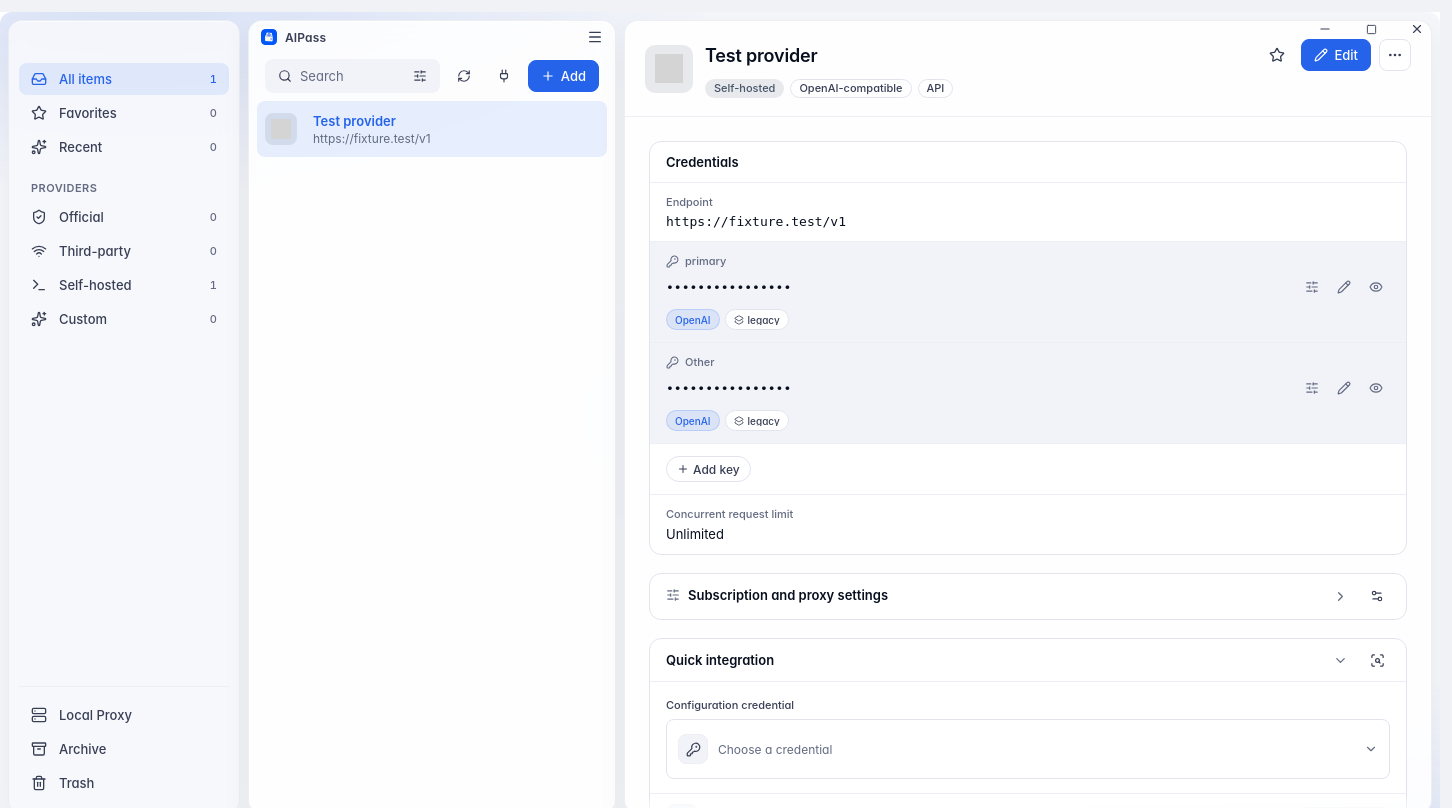
it: deleting the first and final keys then saving provider metadata never resurrects a key
Step 1. Click the button "Edit" → click(1336, 55), box left=1301, top=39, right=1371, bottom=71
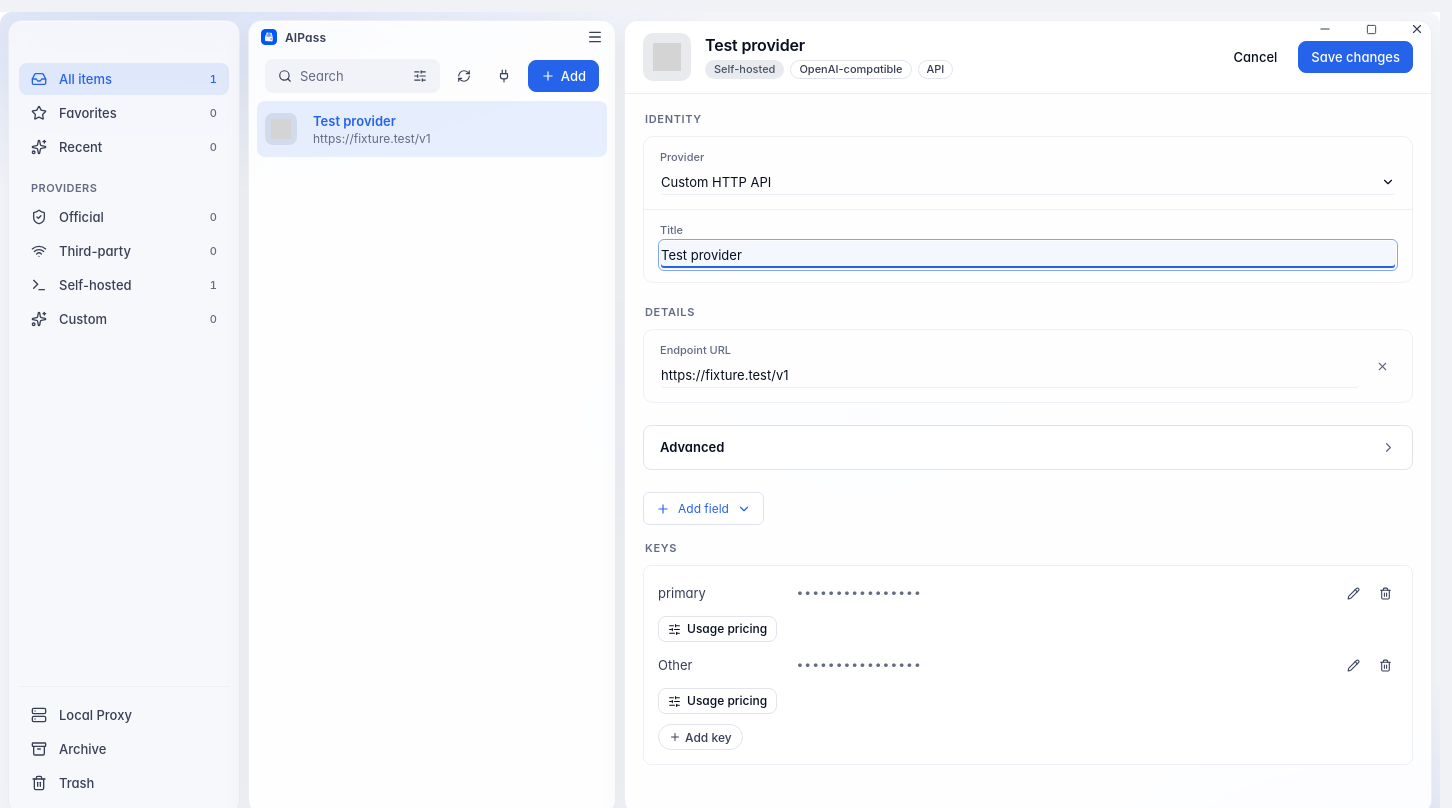
Now the number of elements with class "key-row" is 2, box left=658, top=580, right=1398, bottom=606; left=658, top=652, right=1398, bottom=678
Step 2. Click the button named "Remove key" in the row of "primary" → click(1385, 593), box left=1372, top=580, right=1398, bottom=606
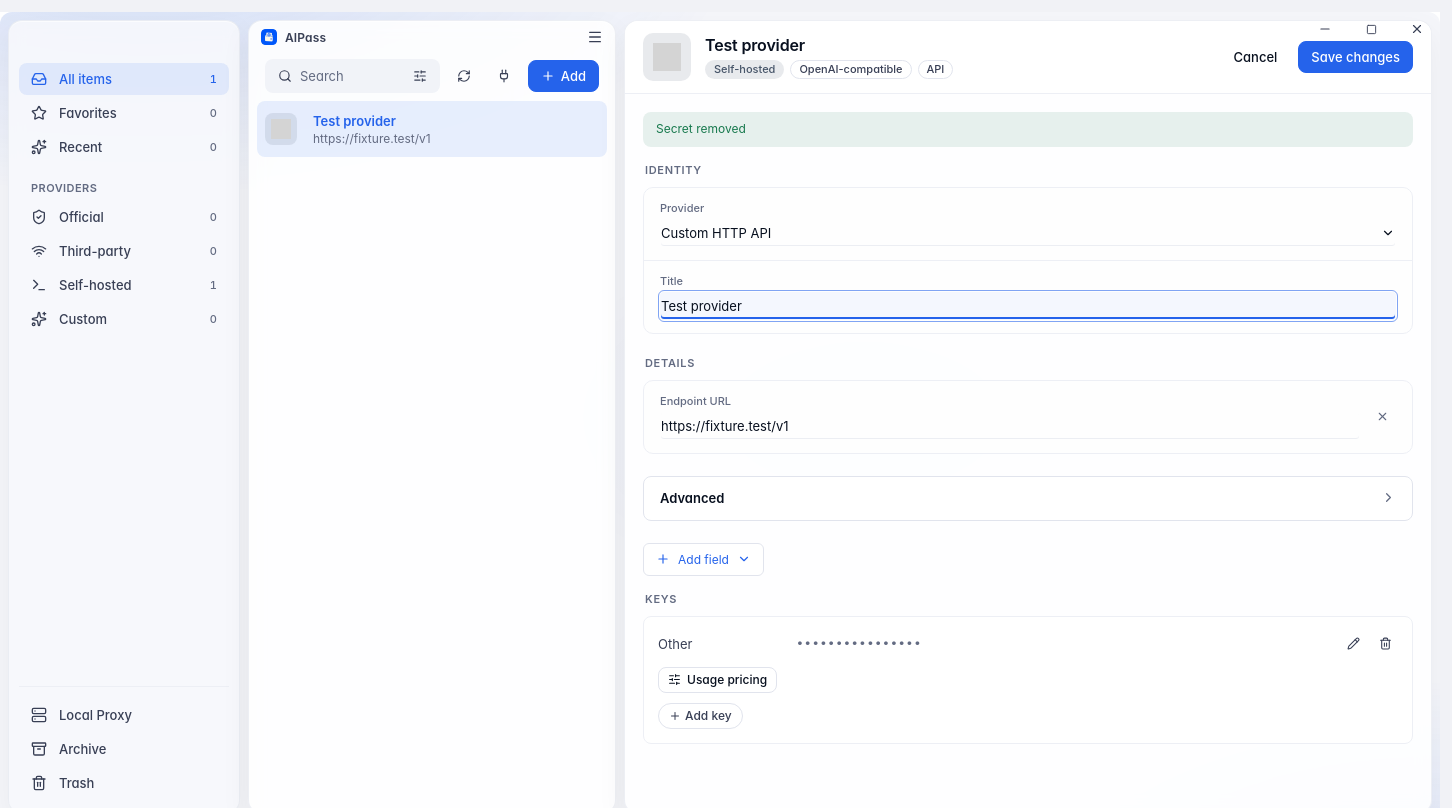
Expected: the text with class "key-row-label" reads "Other", left=658, top=636, right=692, bottom=652
Now the number of elements with class "key-row" is 1, box left=658, top=631, right=1398, bottom=657
Step 3. Click the button named "Remove key" → click(1385, 644), box left=1372, top=631, right=1398, bottom=657
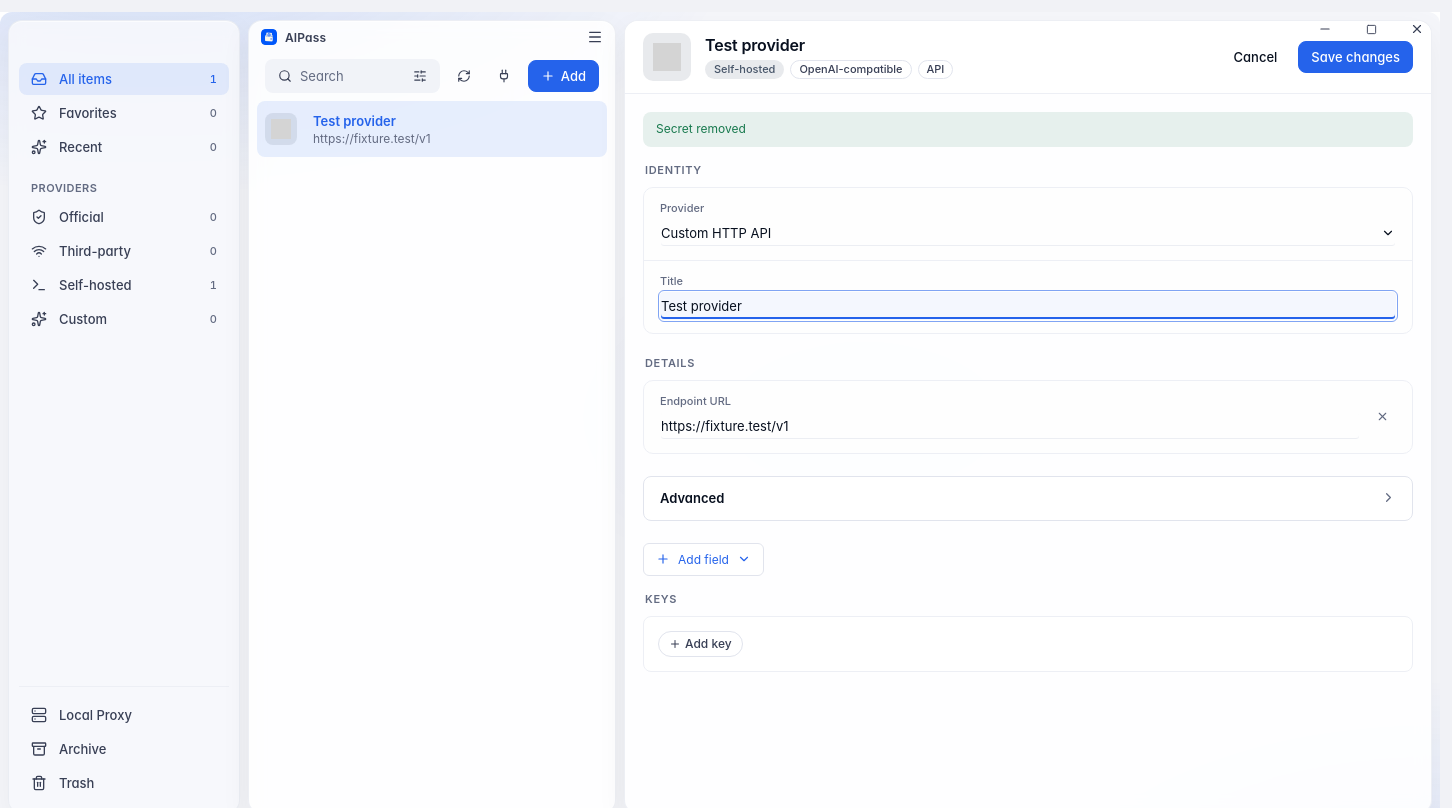
Now no elements with class "key-row" are shown
Step 4. Click the button "Save changes" → click(1356, 57), box left=1298, top=41, right=1413, bottom=73
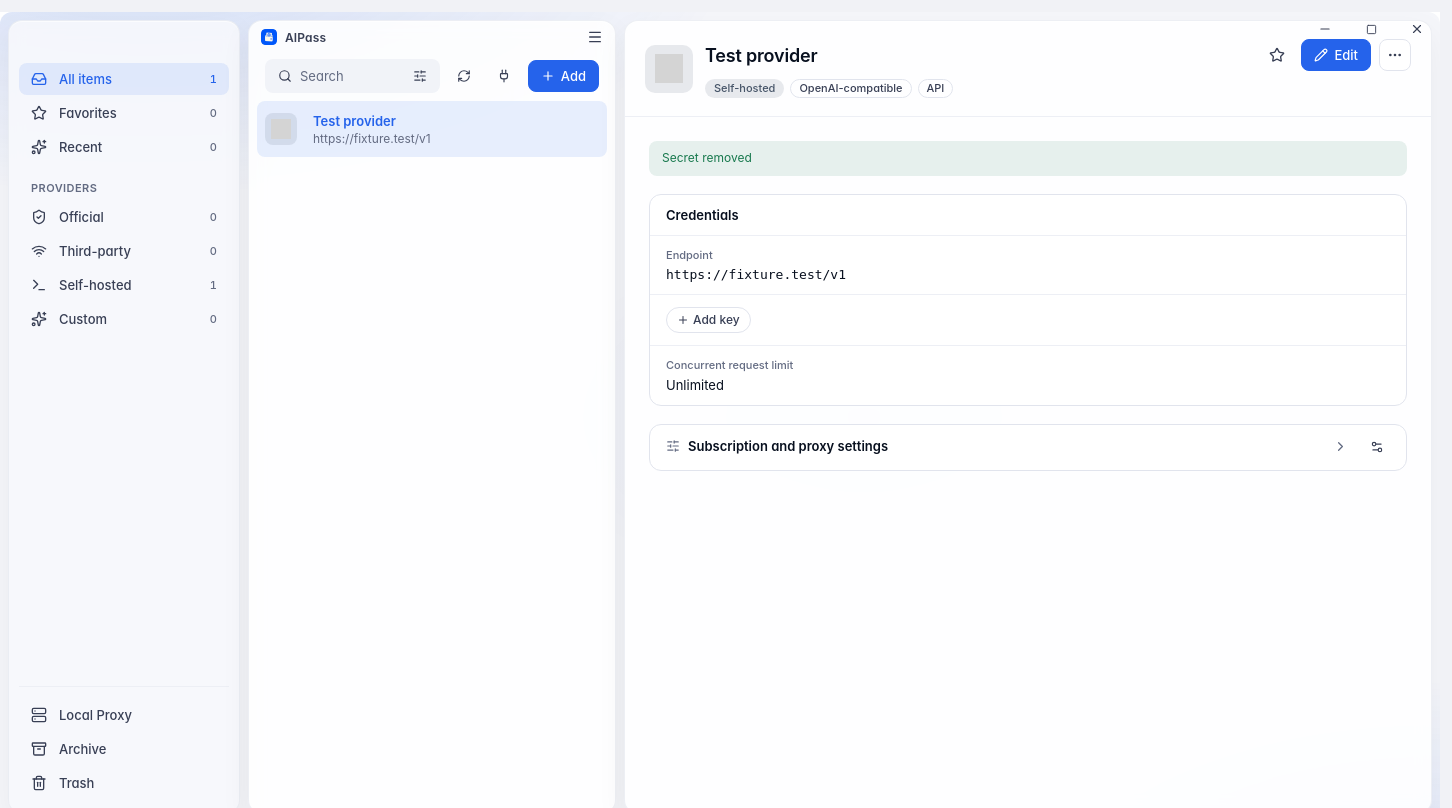
Expected: the button "Add key" is shown, left=666, top=307, right=751, bottom=333
Now the button "Edit" is shown, box left=1301, top=39, right=1371, bottom=71
